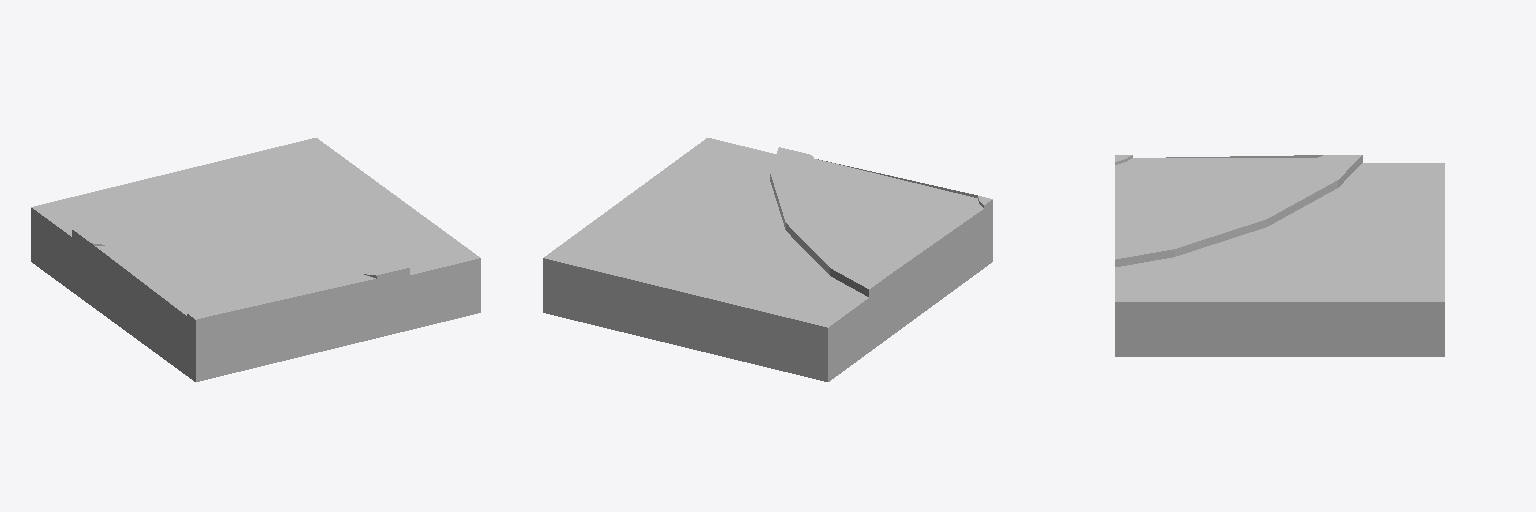
The model's file is roadTile_049.obj.
3 renders of one model, left to right at view 1: azimuth 30°, elevation 25°; view 2: azimuth 150°, elevation 25°; view 3: azimuth 270°, elevation 25°, orthographic.
Parts seen in each view (by area): view 1: Mesh1 Group1 Model; view 2: Mesh1 Group1 Model; view 3: Mesh1 Group1 Model.
Boxes of the visible parts, <box> form: Mesh1 Group1 Model: <box>31,138,480,381</box>; Mesh1 Group1 Model: <box>543,138,992,381</box>; Mesh1 Group1 Model: <box>1115,155,1444,356</box>.
Bounding box in the file's own units: 3 × 0.63 × 3.